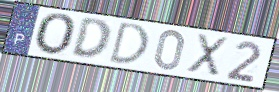0: (152, 28, 187, 72)
2: (225, 39, 263, 84)
D: (106, 20, 150, 66), (70, 18, 112, 62)
O: (34, 12, 79, 58)
X: (184, 33, 229, 80)
